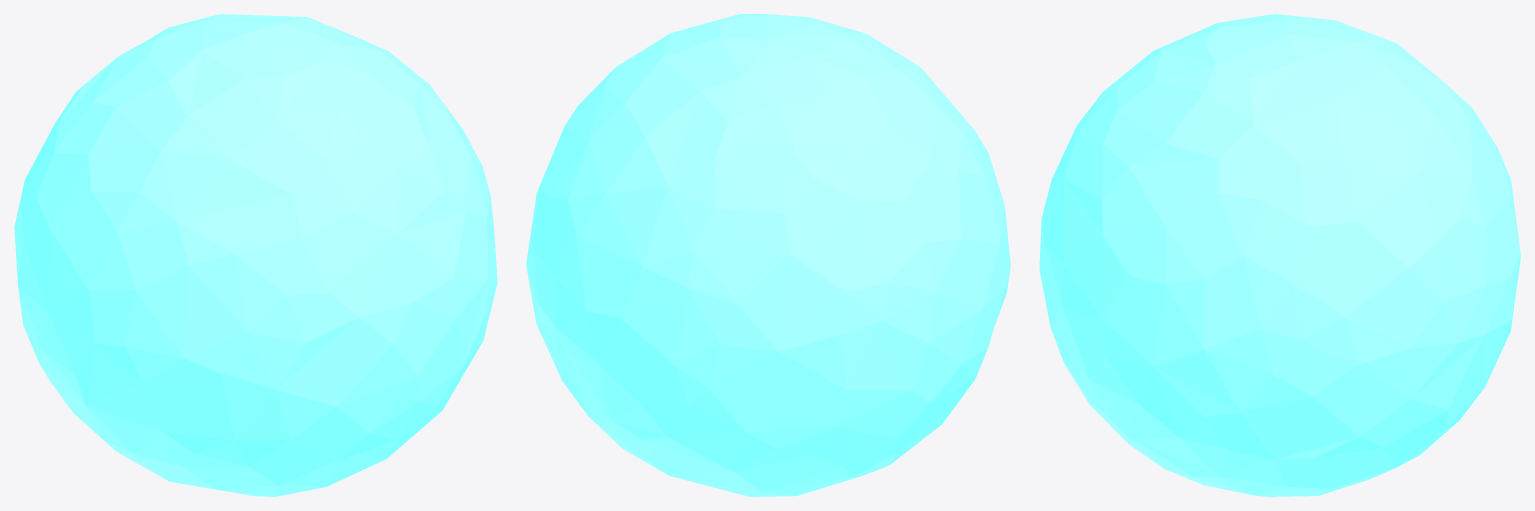
File: lure_spirit_core.glb
3 views of the same model, side by side, from view 1: azimuth 30°, elevation 25°; view 2: azimuth 150°, elevation 25°; view 3: azimuth 270°, elevation 25° (orthographic).
Visible parts, largest first — view 1: lure_spirit_core; view 2: lure_spirit_core; view 3: lure_spirit_core.
Part boxes in pixels (x1,y1,x2,y2): lure_spirit_core: (14, 14, 497, 496); lure_spirit_core: (526, 14, 1010, 496); lure_spirit_core: (1039, 14, 1520, 496).
Size of the model in its own units: 0.1895 by 0.1897 by 0.1884.
